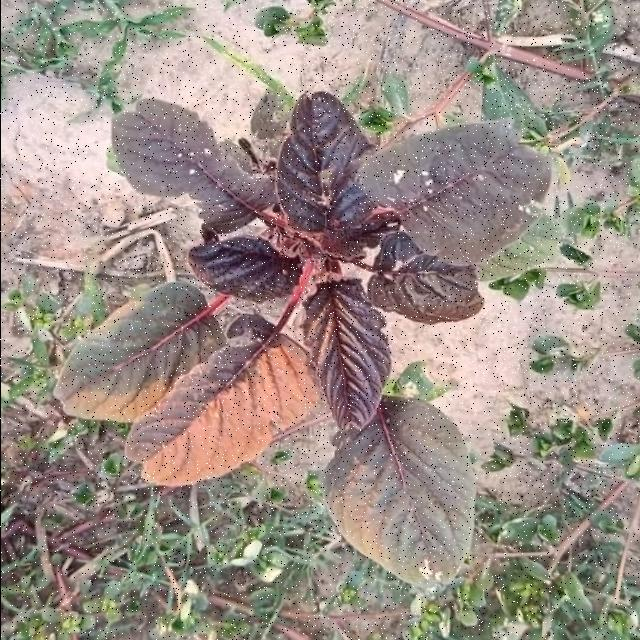plant: (54, 91, 549, 586)
